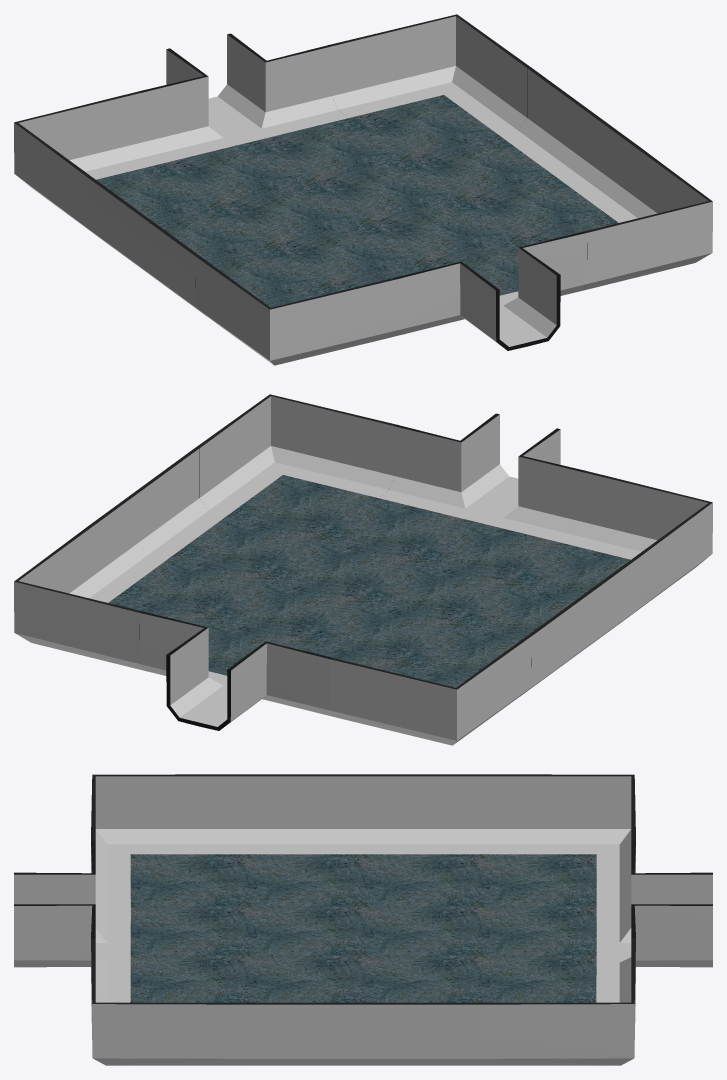
The model's file is Lab_el_room_1_collaps.FBX.
3 renders of one model, top to bottom at view 1: azimuth 30°, elevation 25°; view 2: azimuth 150°, elevation 25°; view 3: azimuth 270°, elevation 25°, orthographic. The views are drawn at different scales.
Visible parts, largest first — view 1: Plane001; view 2: Plane001; view 3: Plane001.
Boxes of the visible parts, bbox=[...] form: Plane001: bbox=[14, 14, 712, 365]; Plane001: bbox=[14, 394, 712, 745]; Plane001: bbox=[14, 774, 712, 1065].
Size of the model in its own units: 23.41 by 3.2 by 30.
